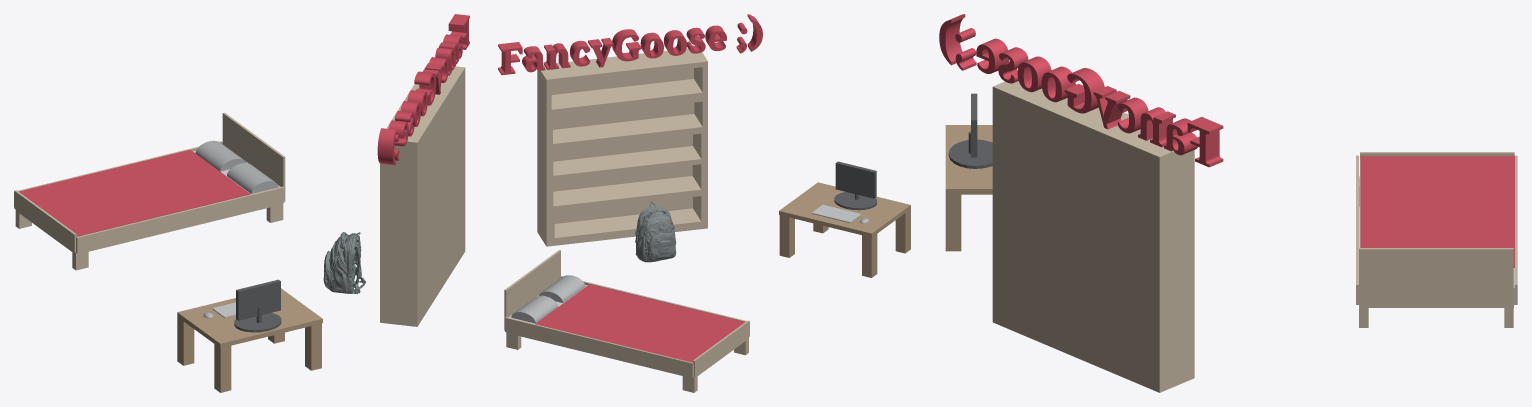
The model's file is Bedroom with backpack.glb.
3 views of the same model, side by side, from view 1: azimuth 30°, elevation 25°; view 2: azimuth 150°, elevation 25°; view 3: azimuth 270°, elevation 25° (orthographic). The views are drawn at different scales.
Parts seen in each view (by area): view 1: Mesh_Mesh_head_geo.001_lambert2SG.001; view 2: Mesh_Mesh_head_geo.001_lambert2SG.001; view 3: Mesh_Mesh_head_geo.001_lambert2SG.001.
Part boxes in pixels (left/top/right/bottom): Mesh_Mesh_head_geo.001_lambert2SG.001: left=14, top=14, right=469, bottom=392; Mesh_Mesh_head_geo.001_lambert2SG.001: left=498, top=14, right=910, bottom=392; Mesh_Mesh_head_geo.001_lambert2SG.001: left=939, top=14, right=1517, bottom=392.
Bounding box in the file's own units: 165 × 97.55 × 183.
